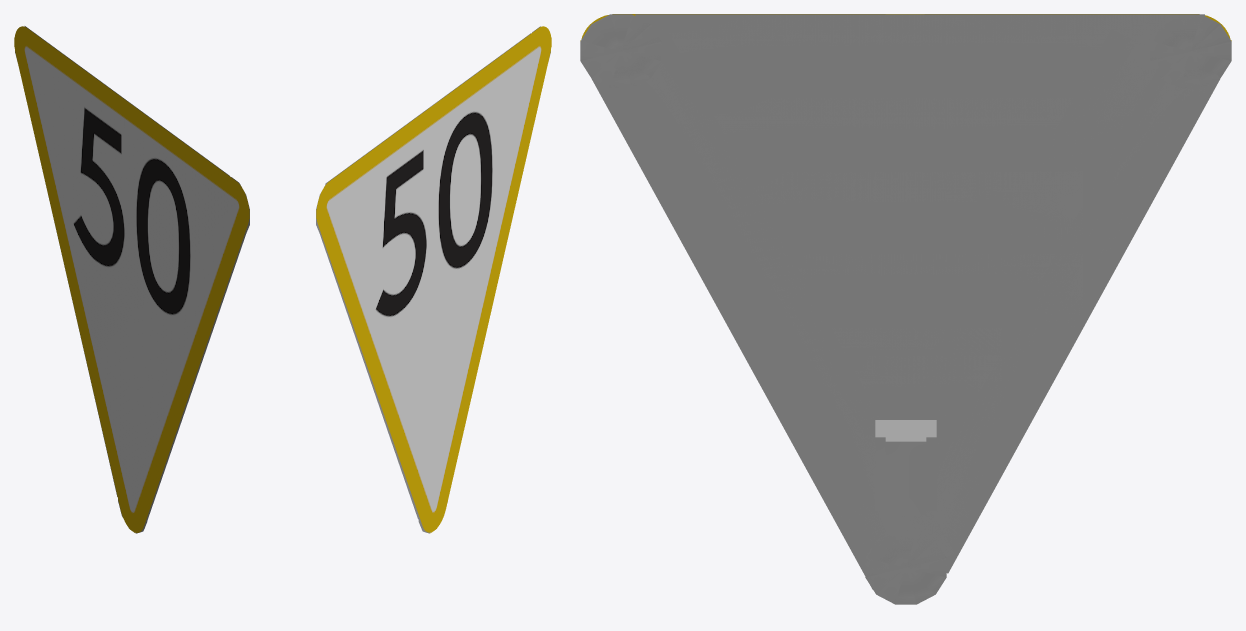
Rendered from permissible_speed_50.obj.
3 renders of one model, left to right at view 1: azimuth 30°, elevation 25°; view 2: azimuth 150°, elevation 25°; view 3: azimuth 270°, elevation 25°, orthographic. The views are drawn at different scales.
Visible parts, largest first — view 1: cube; view 2: cube; view 3: cube, circle.
Part boxes in pixels (box(x1,y1,x2,y2)): cube: box(14, 26, 249, 533); cube: box(316, 26, 551, 533); cube: box(580, 14, 1231, 589); circle: box(580, 14, 1231, 604).
Bounding box in the file's own units: 0.0797 × 1 × 1.
Materials: 2 (2 with a texture image).
